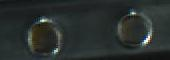holes: (112, 9, 152, 50)
joints: (23, 15, 64, 58), (112, 9, 152, 50)
